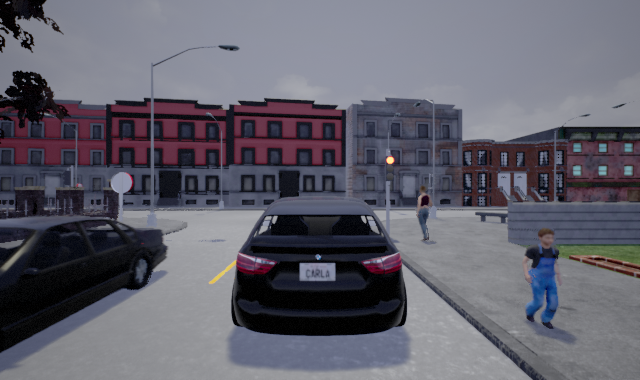pedestrian: (521, 226, 563, 333), (413, 186, 434, 244)
vehicle: (1, 213, 166, 370), (233, 196, 408, 338)
